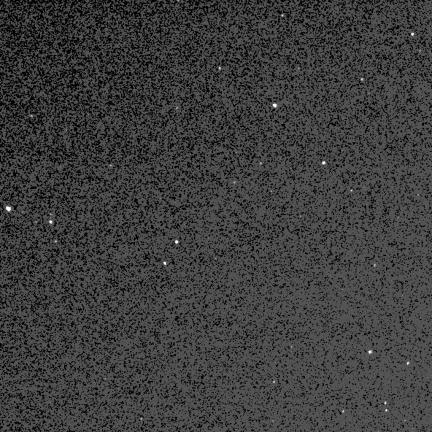blob: (6, 206, 11, 211), (30, 114, 34, 119), (411, 33, 415, 37), (322, 162, 327, 165), (282, 14, 285, 18), (175, 241, 179, 244), (164, 262, 167, 266), (273, 104, 277, 107), (361, 78, 364, 81), (49, 221, 52, 224), (407, 362, 410, 365), (273, 381, 276, 384), (110, 164, 113, 167), (374, 264, 377, 267), (219, 67, 222, 70), (369, 351, 372, 354), (386, 409, 388, 412), (385, 402, 387, 405), (55, 241, 58, 243), (260, 162, 262, 165), (343, 410, 345, 413)
